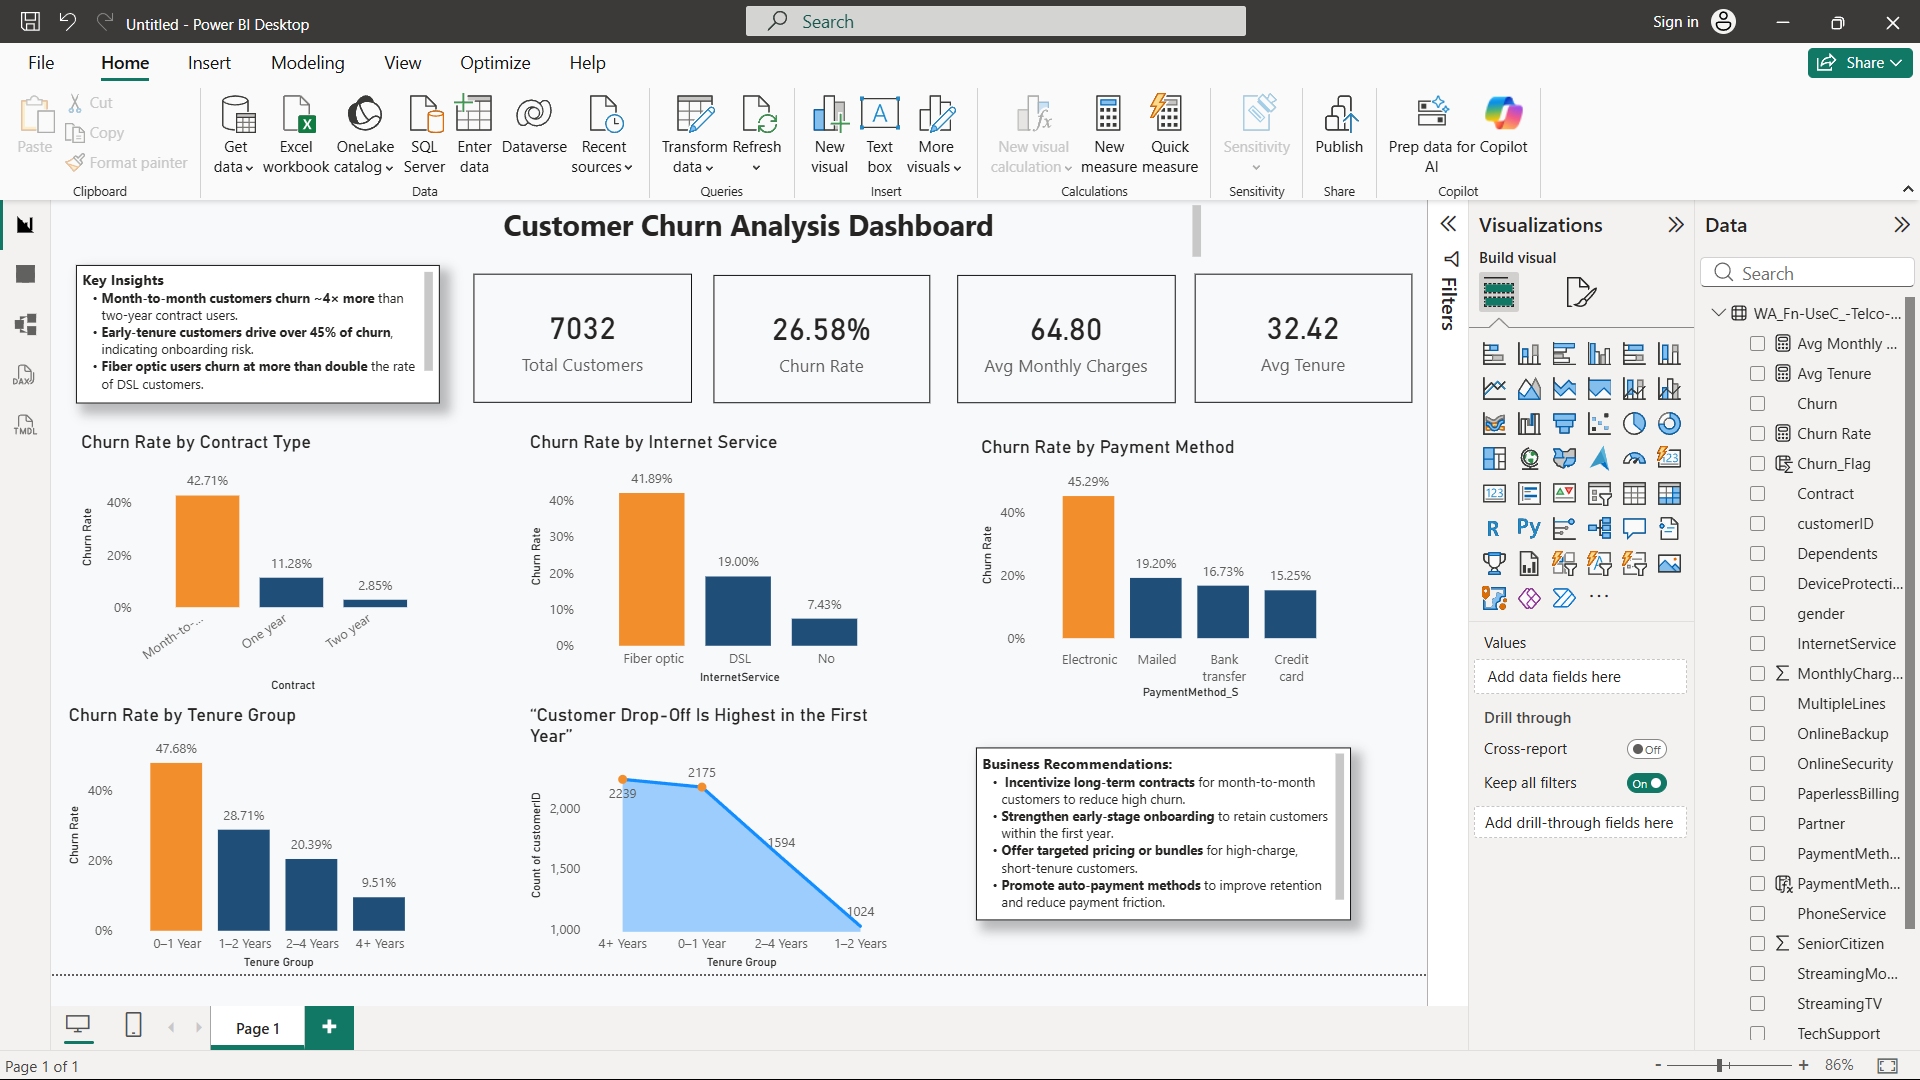

Layout of this report page (visuals, bound fields, positions):
{"tool":"powerbi","page":{"name":"Page 1","canvas":[1280,720],"ordinal":0},"visuals":[{"type":"card","fields":{"Values":["WA_Fn-UseC_-Telco-Customer-Churn.Churn Rate"]},"box":[616,70,201.7,119.4],"z":0},{"type":"card","fields":{"Values":["WA_Fn-UseC_-Telco-Customer-Churn.Total Customers"]},"box":[393,69,203.5,119.8],"z":1000},{"type":"card","fields":{"Values":["WA_Fn-UseC_-Telco-Customer-Churn.Avg Tenure"]},"box":[1064,69,202.3,119.8],"z":2000},{"type":"card","fields":{"Values":["WA_Fn-UseC_-Telco-Customer-Churn.Avg Monthly Charges"]},"box":[843,70,203.1,119.4],"z":3000},{"type":"columnChart","title":"Churn Rate by Contract Type","fields":{"Category":["WA_Fn-UseC_-Telco-Customer-Churn.Contract"],"Y":["WA_Fn-UseC_-Telco-Customer-Churn.Churn Rate"]},"box":[23.3,215.1,347.7,247.7],"z":4000},{"type":"clusteredColumnChart","title":"Churn Rate by Payment Method","fields":{"Category":["WA_Fn-UseC_-Telco-Customer-Churn.PaymentMethod_S"],"Y":["WA_Fn-UseC_-Telco-Customer-Churn.Churn Rate"]},"box":[860.5,219.8,348.8,248.8],"z":5000},{"type":"clusteredColumnChart","title":"Churn Rate by Internet Service","fields":{"Category":["WA_Fn-UseC_-Telco-Customer-Churn.InternetService"],"Y":["WA_Fn-UseC_-Telco-Customer-Churn.Churn Rate"]},"box":[440.7,215.1,350,239.5],"z":6000},{"type":"clusteredColumnChart","fields":{"Category":["WA_Fn-UseC_-Telco-Customer-Churn.Tenure Group"],"Y":["WA_Fn-UseC_-Telco-Customer-Churn.Churn Rate"]},"box":[11.6,468.6,350,251.2],"z":7000},{"type":"textbox","box":[231.4,0,843,60.5],"z":8000},{"type":"textbox","box":[23.3,60.5,338.4,129.1],"z":8001},{"type":"textbox","box":[860.5,509.3,348.8,160.5],"z":8003},{"type":"areaChart","title":"Customer Drop-Off Is Highest in the First Year of Tenure","fields":{"Category":["WA_Fn-UseC_-Telco-Customer-Churn.Tenure Group"],"Y":["CountNonNull(WA_Fn-UseC_-Telco-Customer-Churn.customerID)"]},"box":[440.7,468.6,350,251.2],"z":8004}]}

Visuals, with their boxes on the page's 1280x720 design canvas (x1, y1, x2, y2). These are canvas units, not pixel positions in the 1920x1080 screenshot, which may show the page scaled, cropped or inside an application window:
card - WA_Fn-UseC_-Telco-Customer-Churn.Churn Rate: detection(616, 70, 818, 189)
card - WA_Fn-UseC_-Telco-Customer-Churn.Total Customers: detection(393, 69, 596, 189)
card - WA_Fn-UseC_-Telco-Customer-Churn.Avg Tenure: detection(1064, 69, 1266, 189)
card - WA_Fn-UseC_-Telco-Customer-Churn.Avg Monthly Charges: detection(843, 70, 1046, 189)
"Churn Rate by Contract Type" columnChart: detection(23, 215, 371, 463)
"Churn Rate by Payment Method" clusteredColumnChart: detection(860, 220, 1209, 469)
"Churn Rate by Internet Service" clusteredColumnChart: detection(441, 215, 791, 455)
clusteredColumnChart - WA_Fn-UseC_-Telco-Customer-Churn.Tenure Group x WA_Fn-UseC_-Telco-Customer-Churn.Churn Rate: detection(12, 469, 362, 720)
textbox: detection(231, 0, 1074, 60)
textbox: detection(23, 60, 362, 190)
textbox: detection(860, 509, 1209, 670)
"Customer Drop-Off Is Highest in the First Year of Tenure" areaChart: detection(441, 469, 791, 720)
